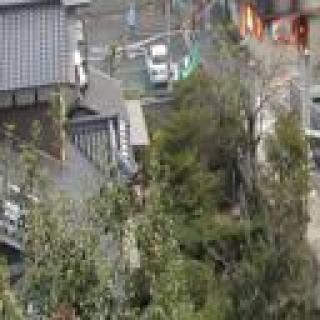fire: (231, 0, 306, 41)
